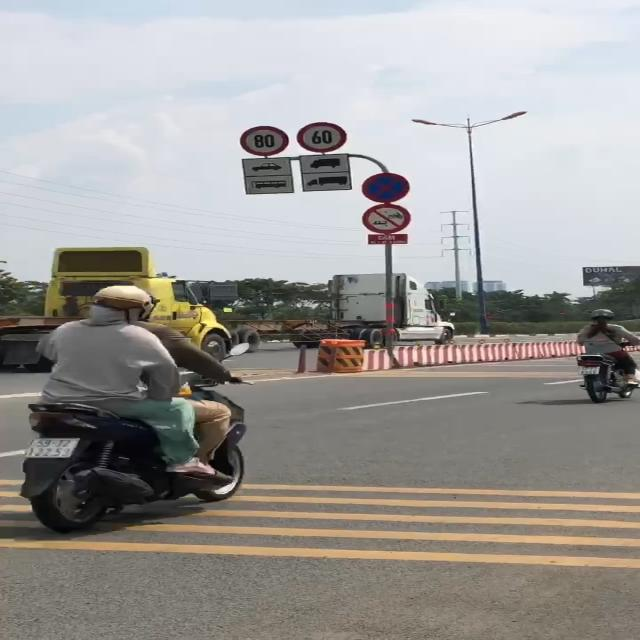Bien bao cam dung xe va do xe: (356, 172, 414, 204)
Bien bao toc do toi da cho phep: (297, 120, 345, 155), (240, 125, 290, 158)
